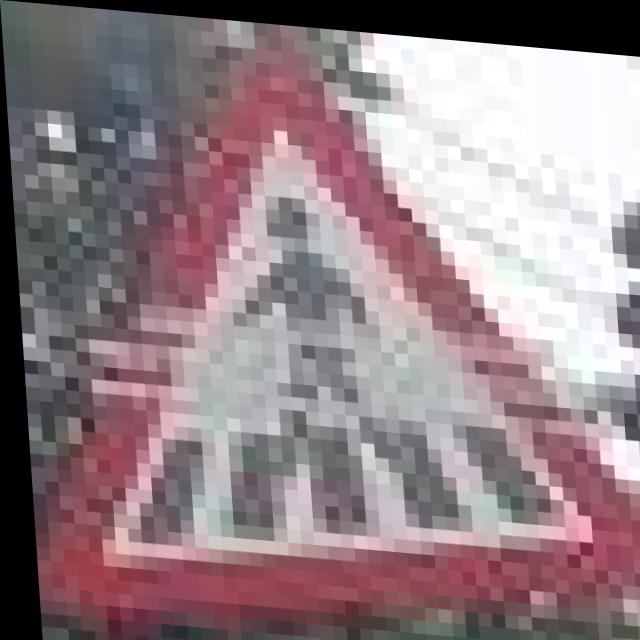PEDESTRIAN_CROSSING: (2, 27, 640, 640)
